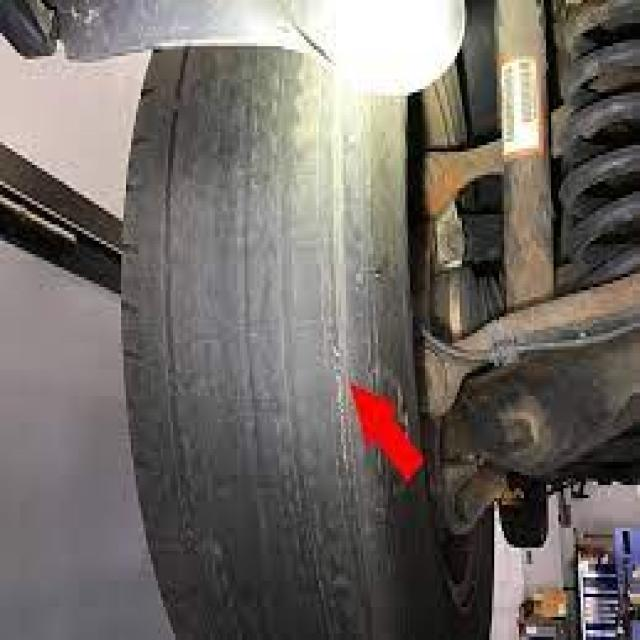Flat spots: (169, 100, 399, 620)
